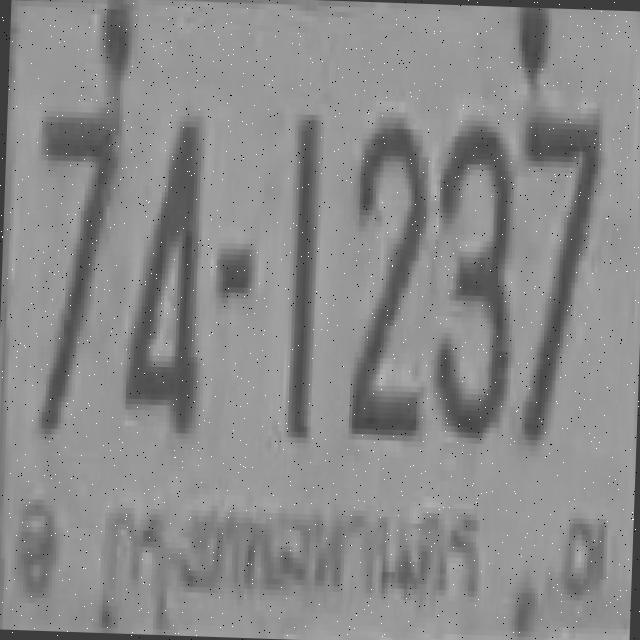1: (282, 111, 316, 429)
2: (343, 111, 428, 436)
3: (426, 116, 514, 436)
4: (119, 108, 204, 428)
7: (27, 102, 118, 433), (512, 109, 600, 438), (514, 108, 600, 346)
Bangkok: (92, 472, 491, 620)
